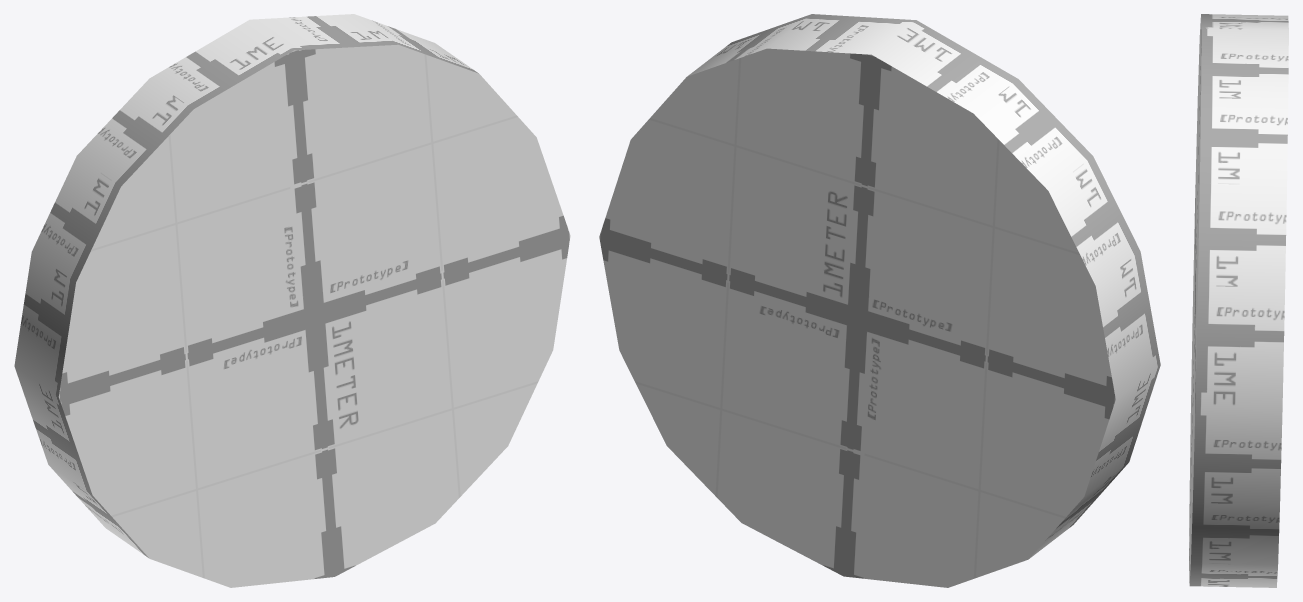
Rendered from Cylinder_Front_Left.fbx.
3 renders of one model, left to right at view 1: azimuth 30°, elevation 25°; view 2: azimuth 150°, elevation 25°; view 3: azimuth 270°, elevation 25°, orthographic. The views are drawn at different scales.
Parts seen in each view (by area): view 1: Cylinder_Front_Left; view 2: Cylinder_Front_Left; view 3: Cylinder_Front_Left.
Boxes of the visible parts, left/top/right/bottom form: Cylinder_Front_Left: left=14, top=14, right=570, bottom=587; Cylinder_Front_Left: left=599, top=14, right=1160, bottom=587; Cylinder_Front_Left: left=1189, top=14, right=1288, bottom=587.
Size of the model in its own units: 99.79 by 99.07 by 17.18.
